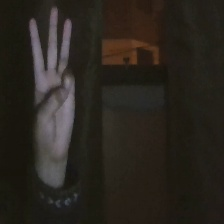W: (20, 1, 84, 163)
